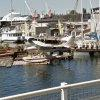Boat: (21, 29, 99, 61)
